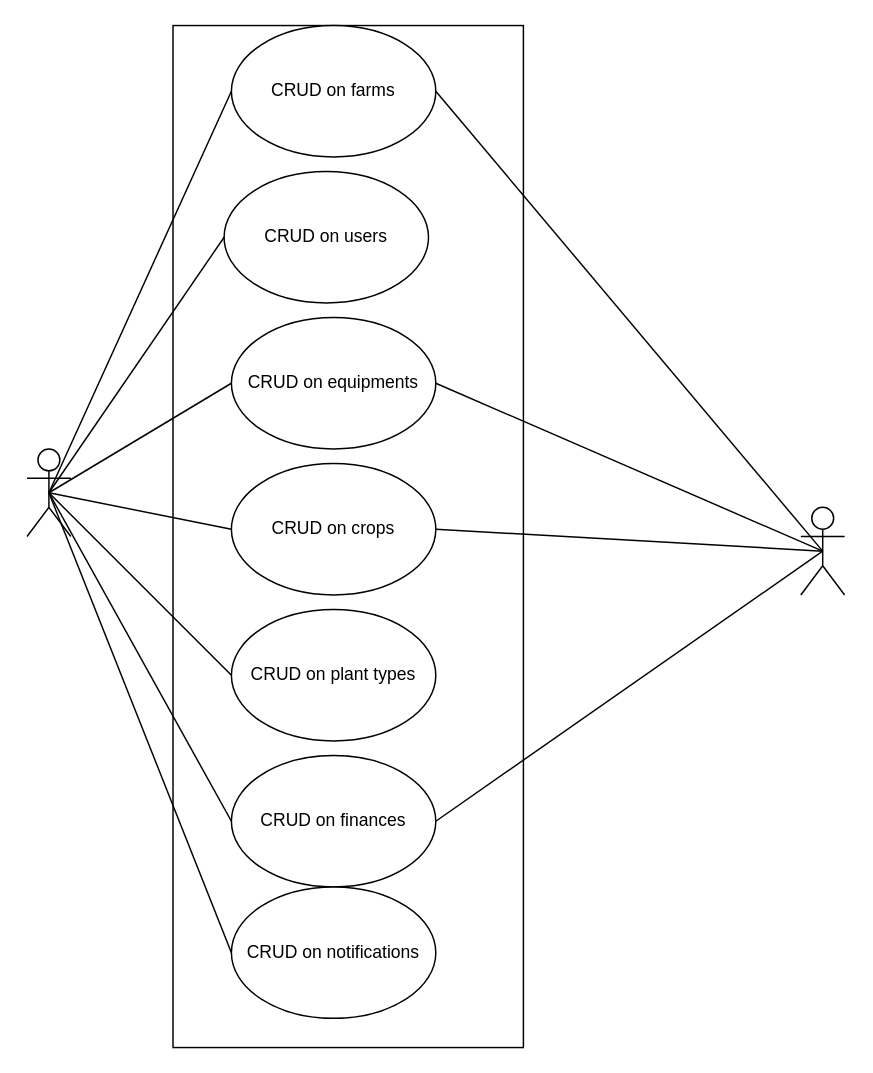
The diagram is 873 pixels wide and 1073 high, and some of its shapes have lost their labels. The centre of each missing label's shape, as x and y in pixels:
"admin" belongs at point (48, 492).
"farmer" belongs at point (822, 550).
